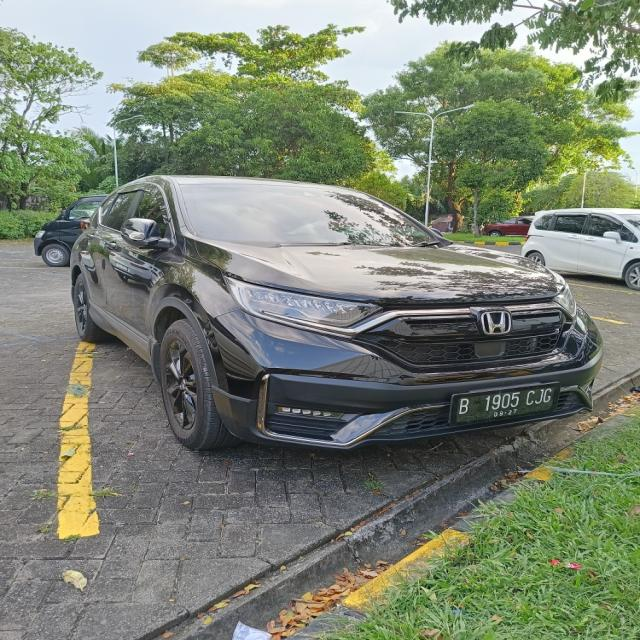plates: (454, 381, 564, 422)
